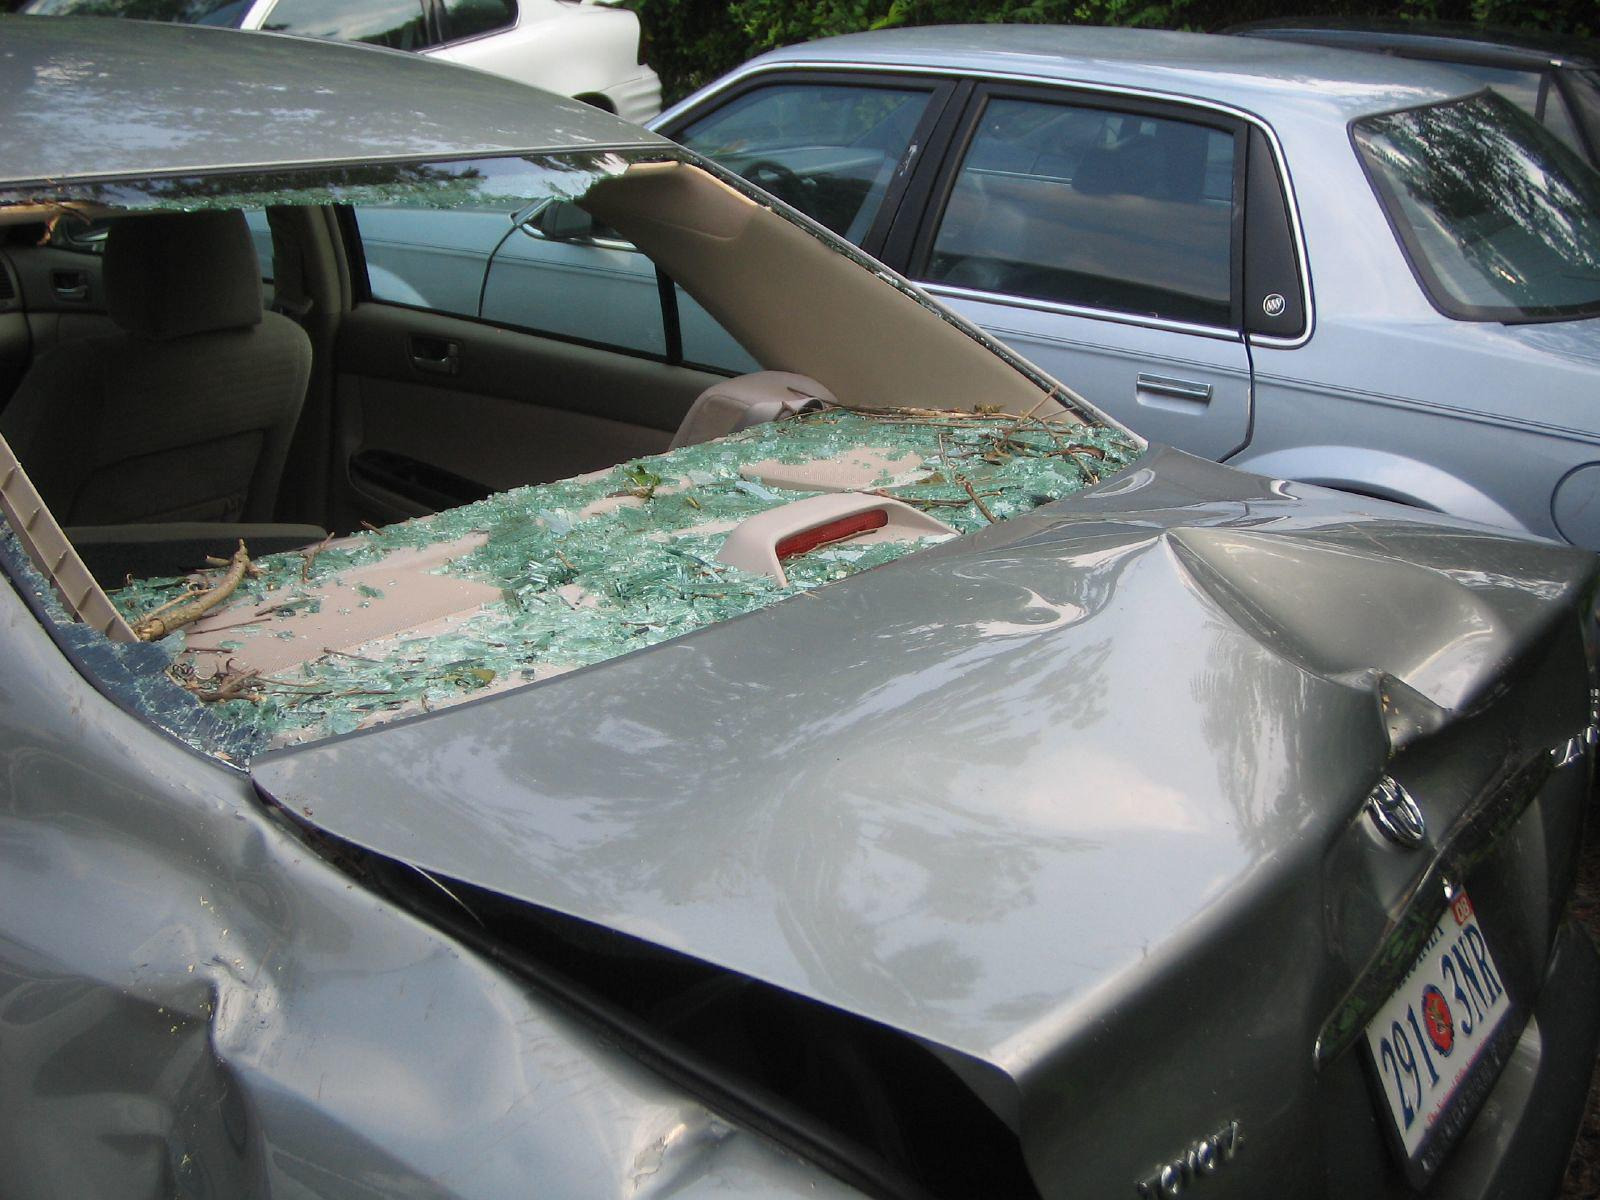Rear-windscreen-Damage: (0, 140, 1063, 596)
quaterpanel-dent: (0, 579, 616, 1199)
rear-bumper-dent: (568, 487, 1560, 1073)
